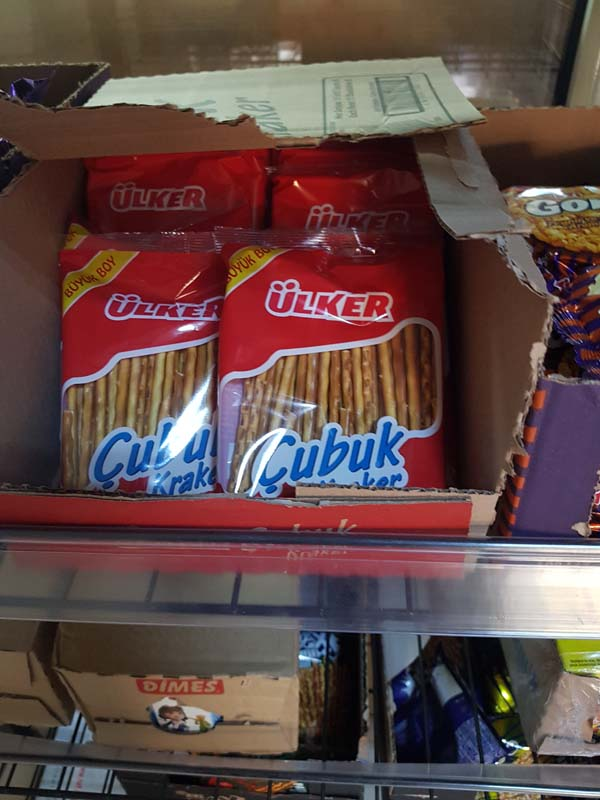eticubuk: (219, 230, 445, 495), (67, 230, 215, 497)
